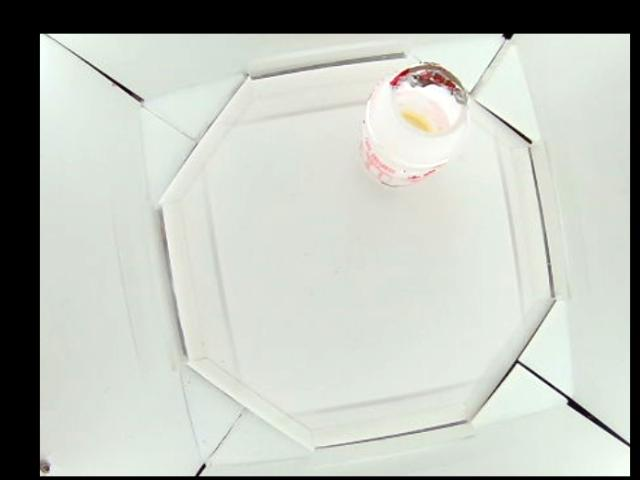Bottle: (359, 58, 471, 188)
